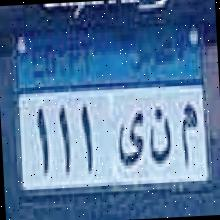1: (77, 100, 100, 182), (34, 100, 52, 180), (56, 102, 74, 180)
meem: (176, 94, 203, 174)
noon: (147, 104, 173, 171)
yaa: (116, 106, 146, 178)
